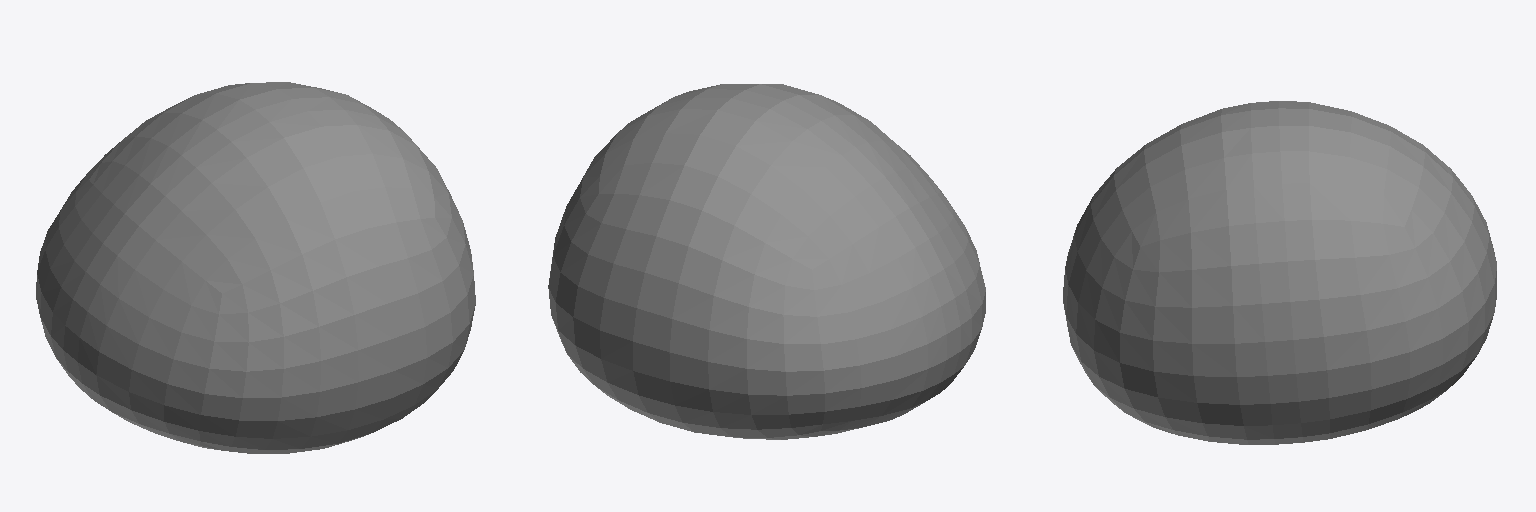
The model's file is BolaSuelta.obj.
3 views of the same model, side by side, from view 1: azimuth 30°, elevation 25°; view 2: azimuth 150°, elevation 25°; view 3: azimuth 270°, elevation 25° (orthographic).
Parts seen in each view (by area): view 1: body; view 2: body; view 3: body.
Boxes of the visible parts, <box> form: body: <box>36,82,475,453</box>; body: <box>548,84,985,439</box>; body: <box>1063,101,1496,444</box>.
Bounding box in the file's own units: 0.4297 × 0.3284 × 0.4359.